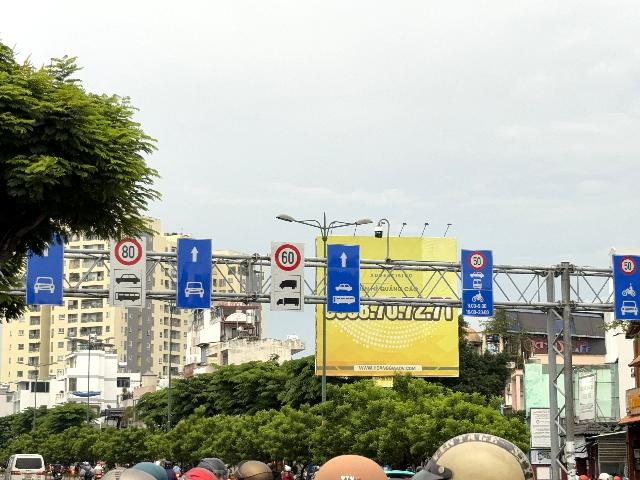toc-do-toi-da-cho-phep: (114, 236, 143, 266), (274, 244, 302, 271), (468, 251, 487, 270), (619, 256, 638, 275)
